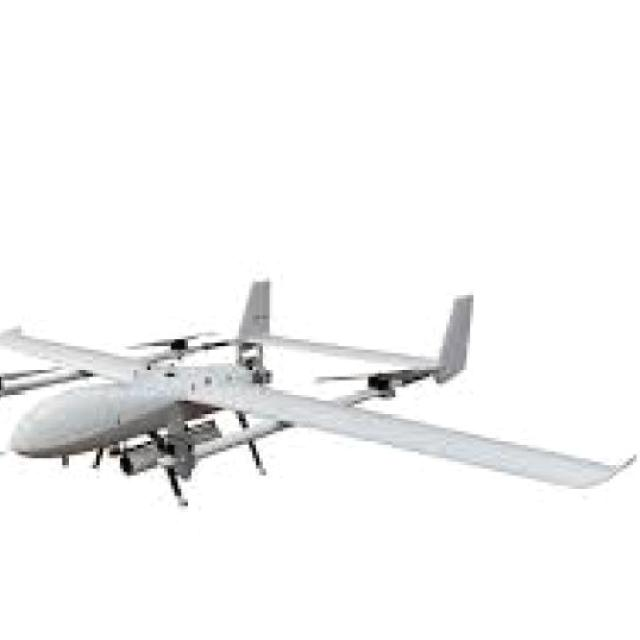plane: (0, 275, 635, 508)
